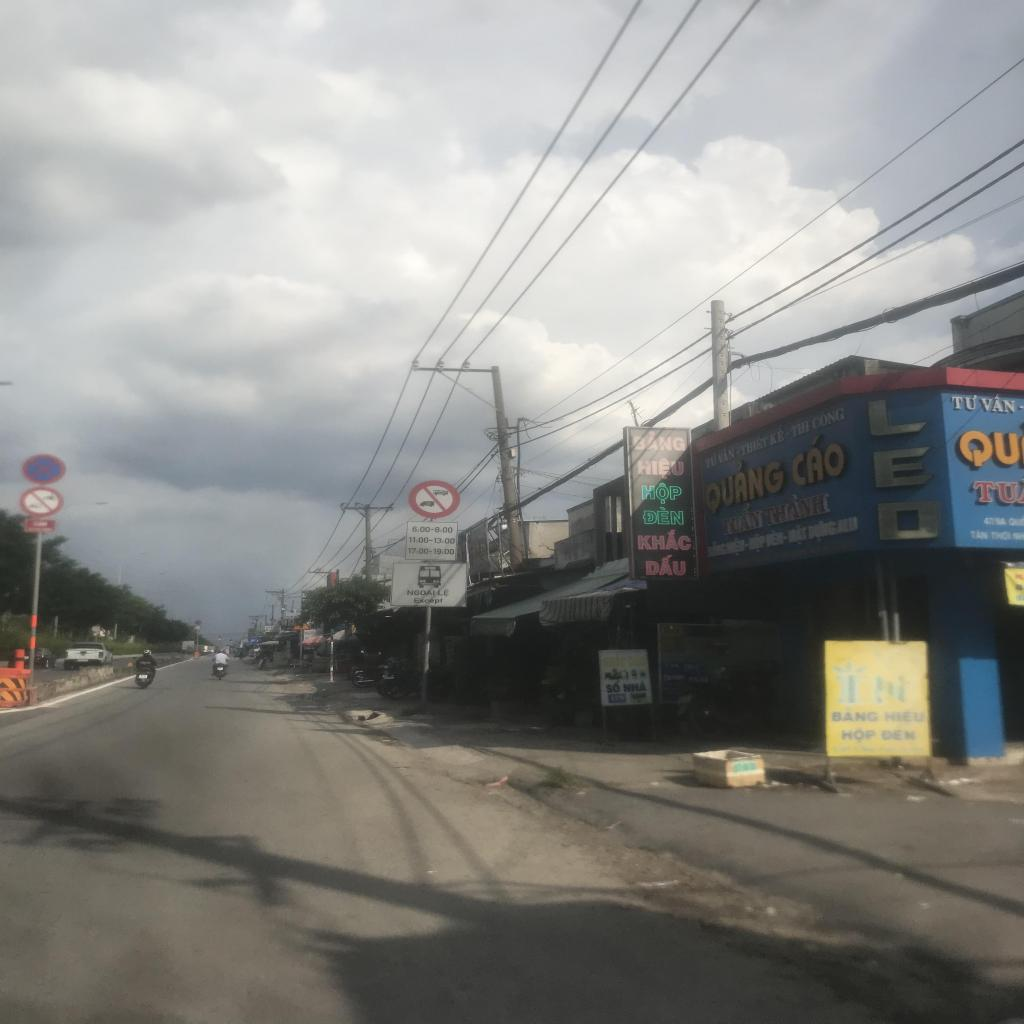cam_dung_xe_va_do_xe: (23, 454, 66, 484)
cam_o_to_tai_va_xe_khach: (408, 480, 460, 518)
cam_xe_2_banh_va_xe_3_banh_co_dong_co: (20, 486, 64, 516)
khac: (391, 563, 467, 607), (404, 521, 458, 560)
